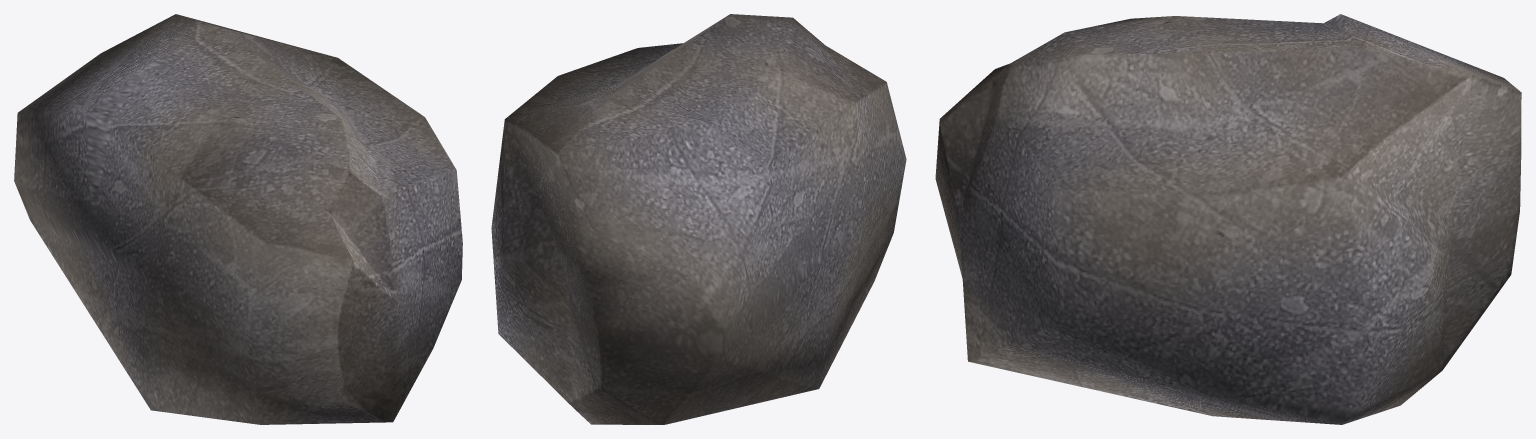
Rendered from Asteroid_04.FBX.
3 renders of one model, left to right at view 1: azimuth 30°, elevation 25°; view 2: azimuth 150°, elevation 25°; view 3: azimuth 270°, elevation 25°, orthographic. The views are drawn at different scales.
Visible parts, largest first — view 1: Asteroid_04; view 2: Asteroid_04; view 3: Asteroid_04.
Part boxes in pixels (left/top/right/bottom): Asteroid_04: left=14, top=14, right=462, bottom=424; Asteroid_04: left=491, top=14, right=906, bottom=424; Asteroid_04: left=935, top=14, right=1521, bottom=424.
Size of what is drawn, in the model's own units: 45.11 by 46.69 by 67.6.
